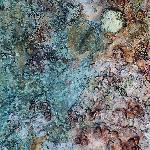dead: (1, 2, 144, 147)
